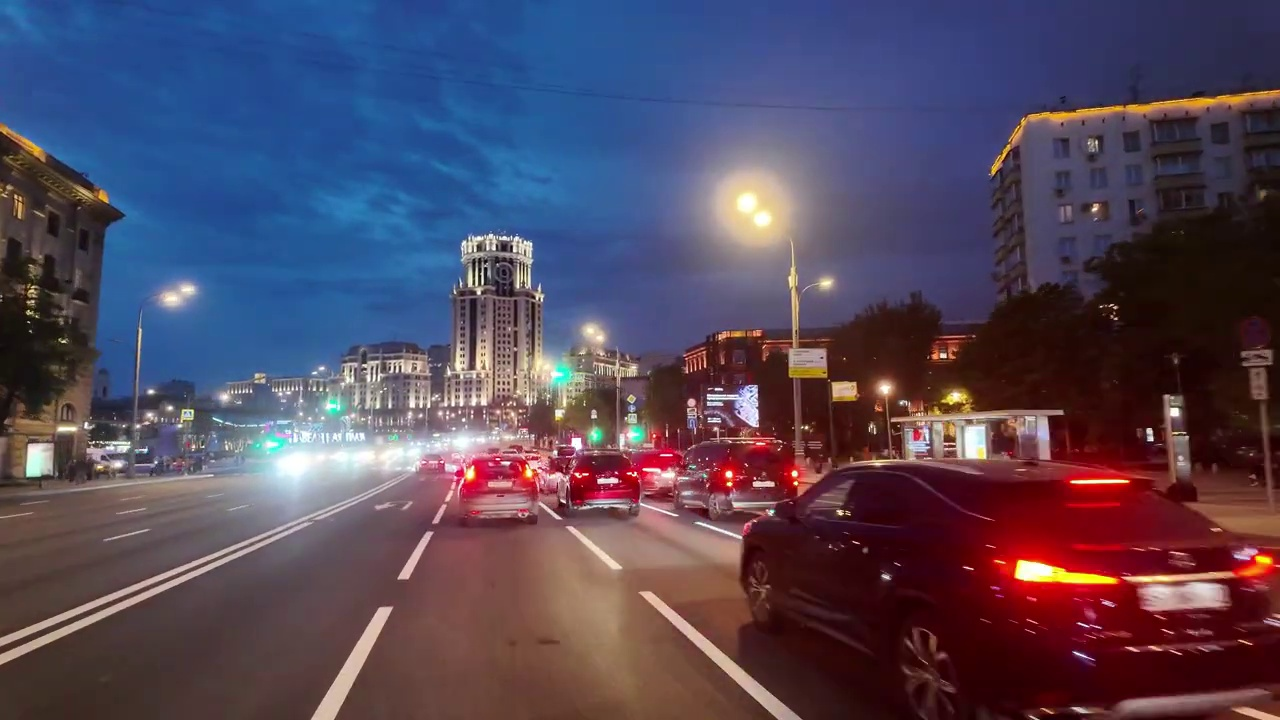acesa: (727, 186, 781, 238), (160, 281, 195, 310), (580, 322, 606, 348), (812, 272, 838, 295)
